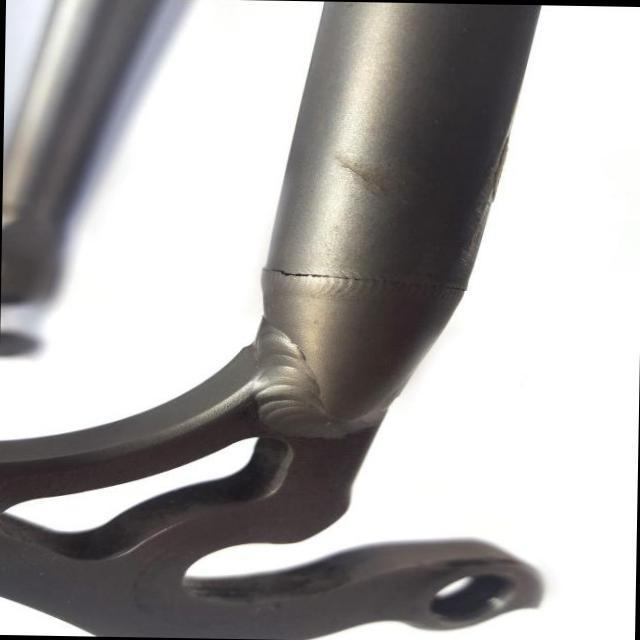defect: (258, 267, 469, 290)
